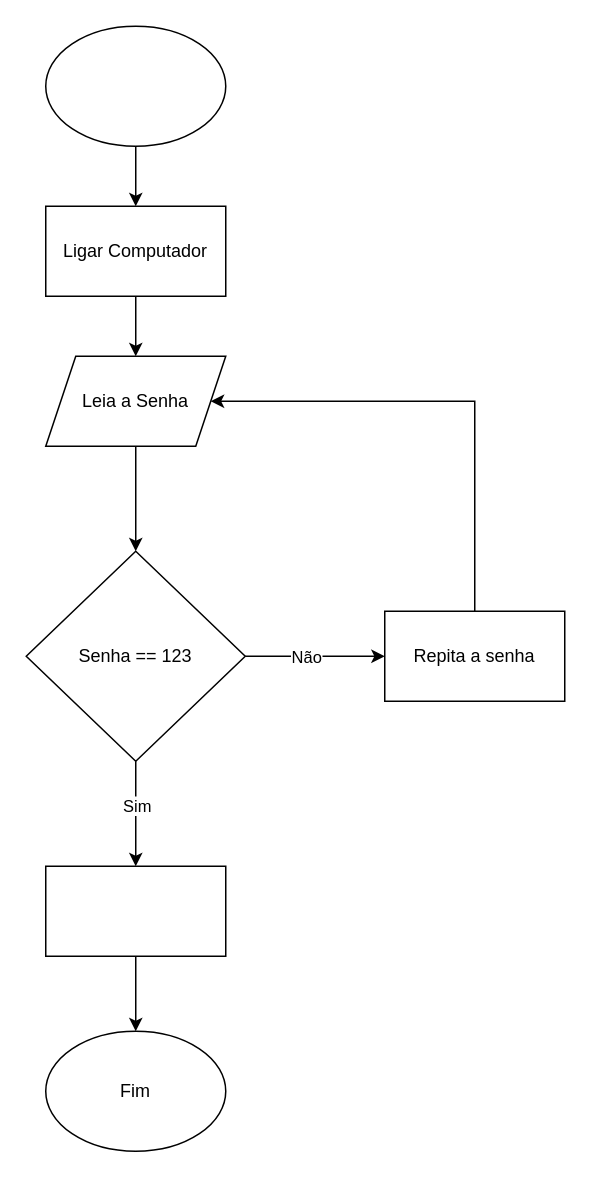
Some shapes in this 591 by 1178 pixel diagram are drawn without their labels. The centre of each missing label's shape, as x and y in pixels:
"Acesso ao Computador" goes at [135,910].
"Início" goes at [135,85].
